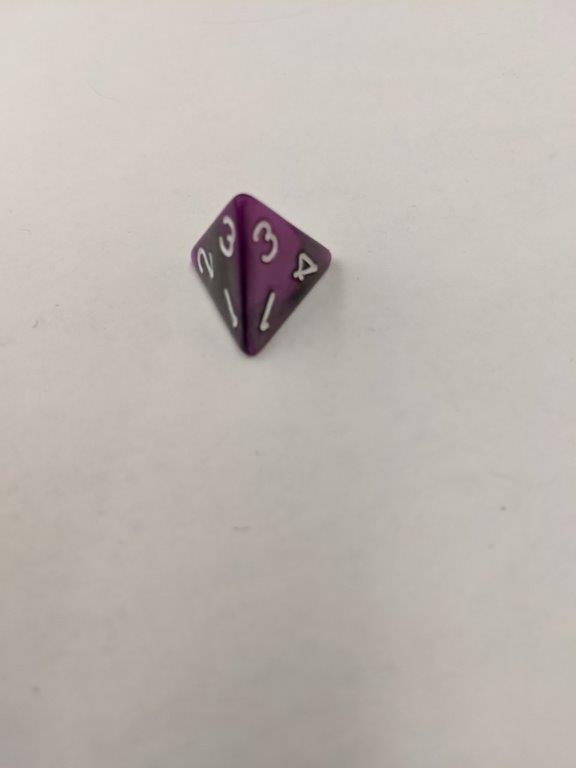d4-3: (186, 193, 336, 358)
